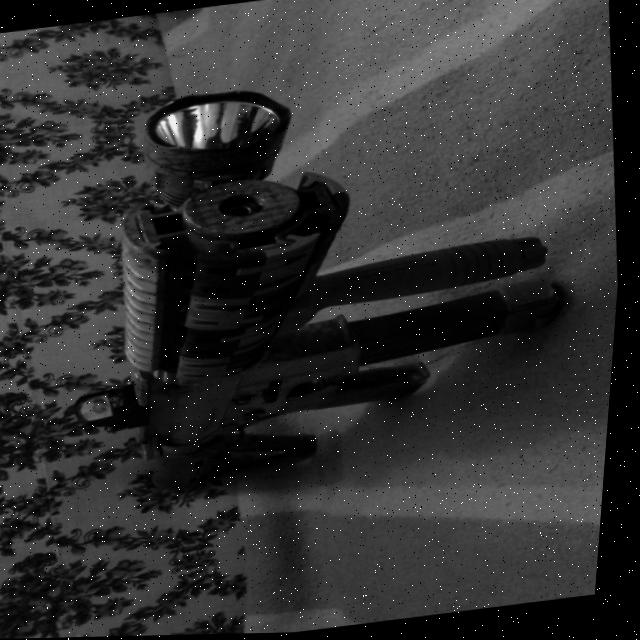firearm: (44, 48, 599, 495)
